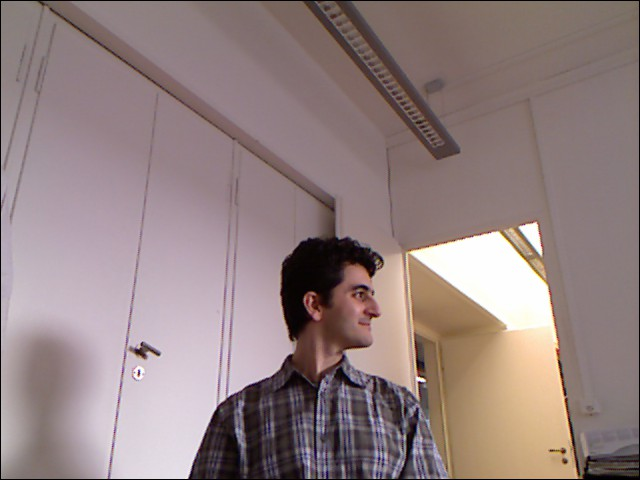deflection: (213, 231, 424, 444)
